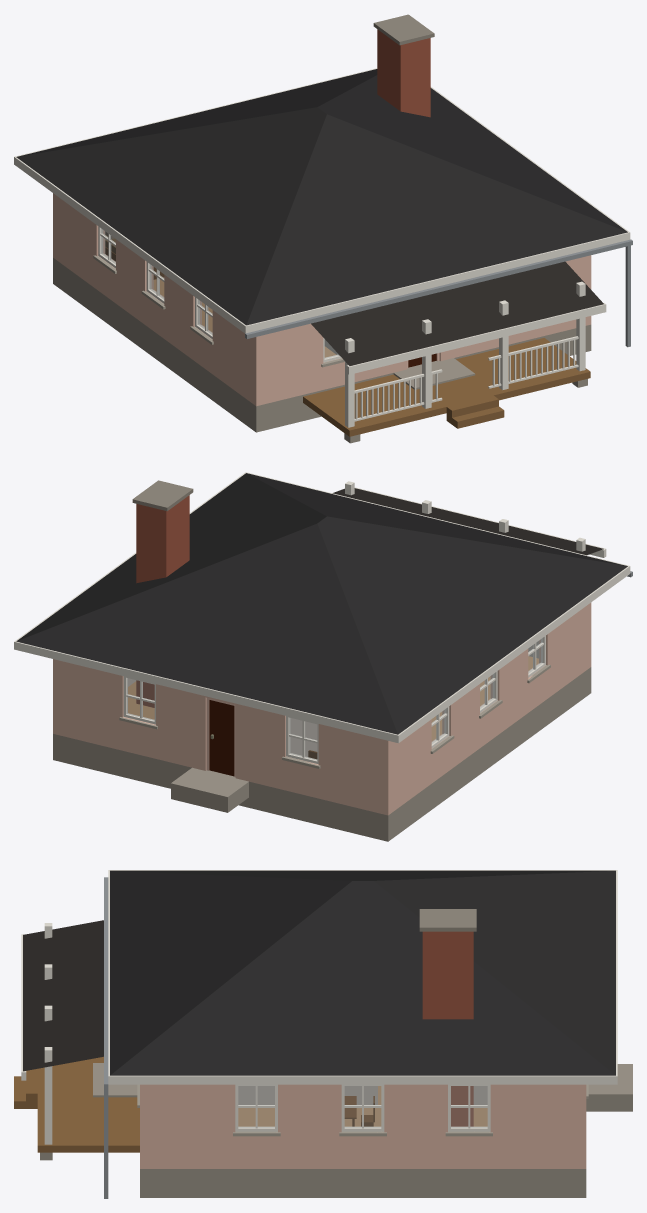
File: bungalow_b.glb
3 views of the same model, one above another, from view 1: azimuth 30°, elevation 25°; view 2: azimuth 150°, elevation 25°; view 3: azimuth 270°, elevation 25° (orthographic). The views are drawn at different scales.
Visible parts, largest first — view 1: LOD0; view 2: LOD0, LEAF1; view 3: LOD0.
Part boxes in pixels (left/top/right/bottom): LOD0: left=14, top=14, right=632, bottom=443; LOD0: left=14, top=472, right=632, bottom=841; LEAF1: left=209, top=700, right=234, bottom=776; LOD0: left=14, top=870, right=632, bottom=1198.
Size of what is drawn, in the model's own units: 11.52 by 6.6 by 14.56.
